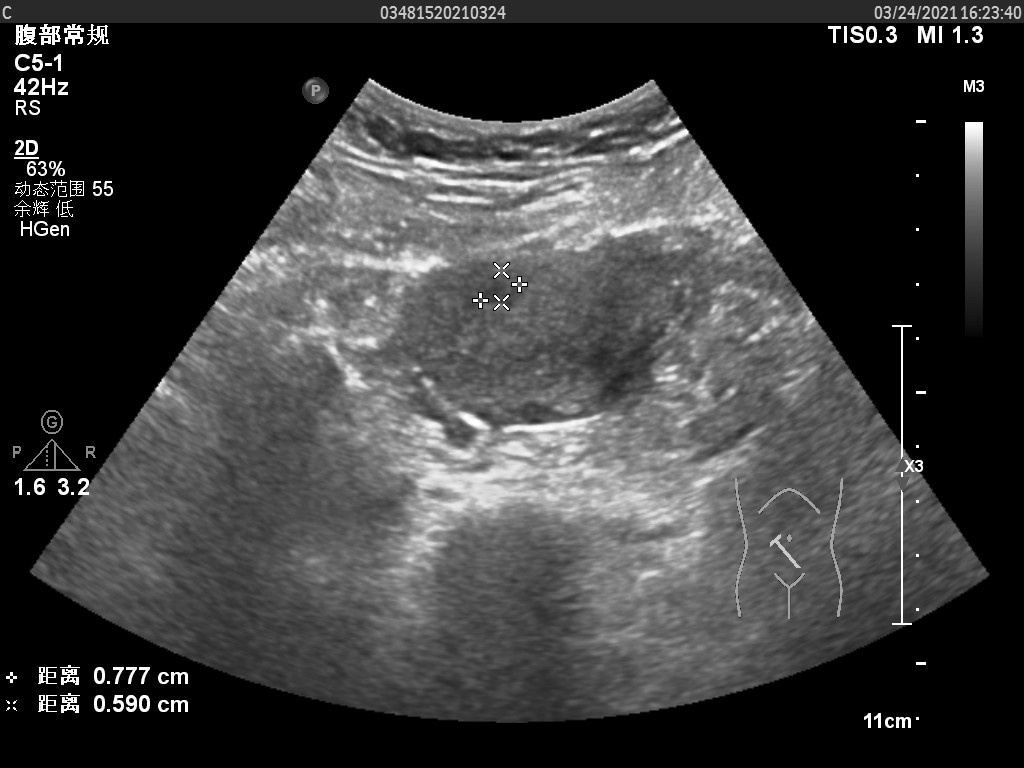肌瘤: (479, 270, 520, 305)
